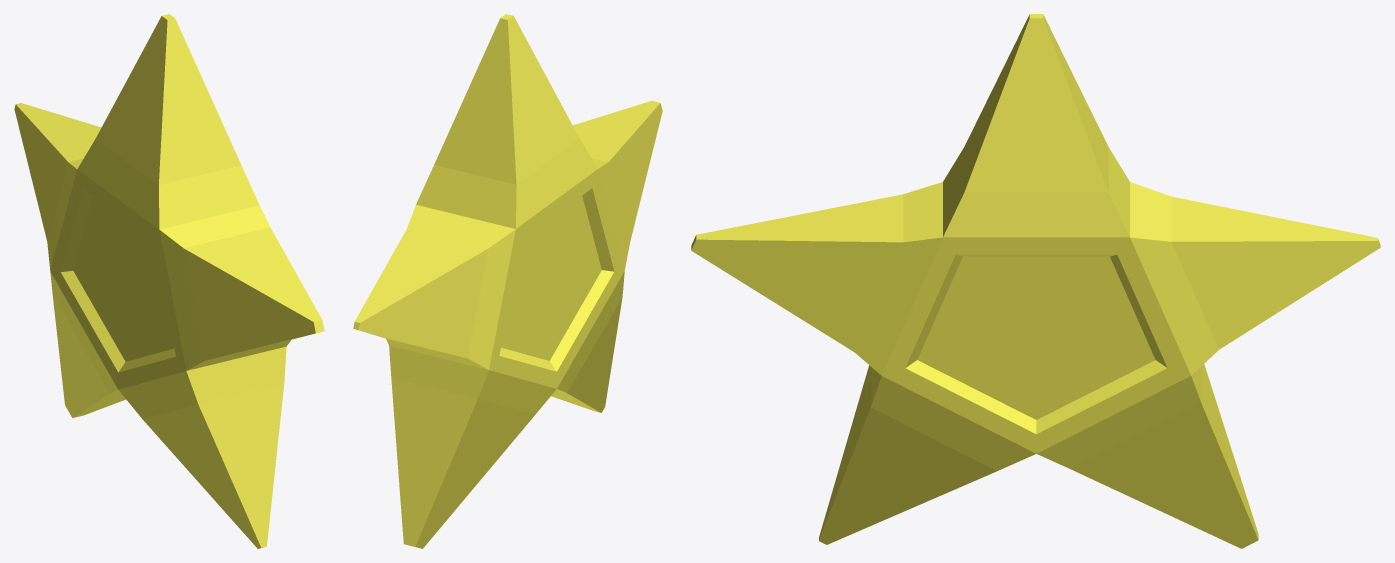
The model's file is star.fbx.
The picture shows the model from 3 angles, left to right: view 1: azimuth 30°, elevation 25°; view 2: azimuth 150°, elevation 25°; view 3: azimuth 270°, elevation 25°; orthographic projection. The views are drawn at different scales.
Visible parts, largest first — view 1: Cube; view 2: Cube; view 3: Cube.
Part boxes in pixels (left/top/right/bottom): Cube: left=14, top=14, right=324, bottom=548; Cube: left=353, top=14, right=662, bottom=548; Cube: left=691, top=14, right=1380, bottom=548.
Bounding box in the file's own units: 89.88 × 399 × 471.
